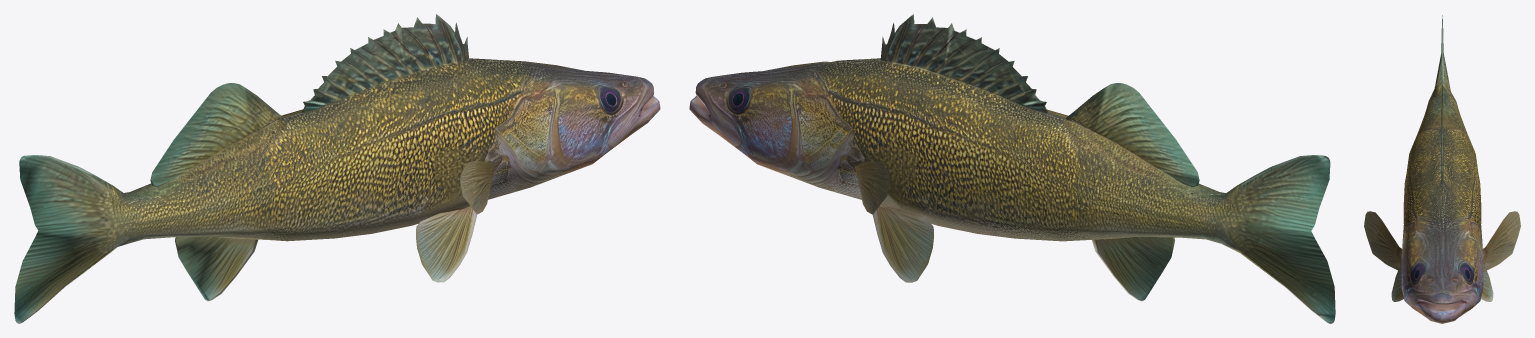
File: walleye.glb
The picture shows the model from 3 angles, left to right: view 1: azimuth 30°, elevation 25°; view 2: azimuth 150°, elevation 25°; view 3: azimuth 270°, elevation 25°; orthographic projection. The views are drawn at different scales.
Parts seen in each view (by area): view 1: tripo_node_fb4eabfe-2768-46b1-8130-d5e40b539201; view 2: tripo_node_fb4eabfe-2768-46b1-8130-d5e40b539201; view 3: tripo_node_fb4eabfe-2768-46b1-8130-d5e40b539201.
Boxes of the visible parts, <box> form: tripo_node_fb4eabfe-2768-46b1-8130-d5e40b539201: <box>14,14,660,323</box>; tripo_node_fb4eabfe-2768-46b1-8130-d5e40b539201: <box>689,14,1335,323</box>; tripo_node_fb4eabfe-2768-46b1-8130-d5e40b539201: <box>1364,15,1520,323</box>.
Size of the model in its own units: 0.9995 by 0.356 by 0.2847.
Materials: 1 (1 with a texture image).
